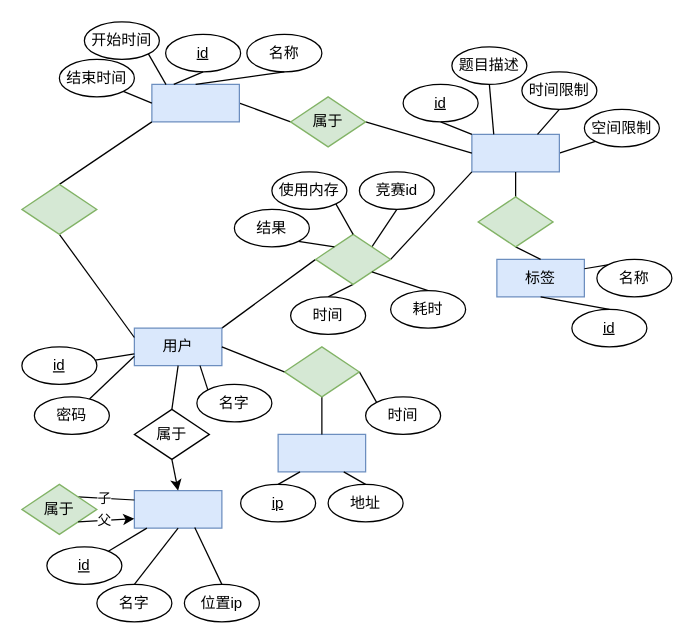
Some shapes in this 694 by 644 pixel diagram are drawn without their labels. The centre of each missing label's shape, as x and y in pixels:
"位置" goes at (x=321, y=452).
"分类" goes at (x=515, y=221).
"参加" goes at (x=59, y=208).
"提交" goes at (x=352, y=258).
"登陆" goes at (x=321, y=371).
"竞赛" goes at (x=195, y=102).
"组织机构" goes at (x=177, y=508).
"题目" goes at (x=515, y=152).
